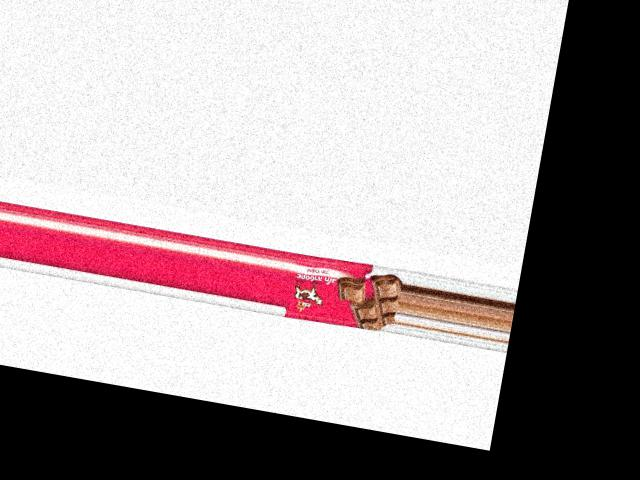chocolate: (282, 251, 403, 334)
